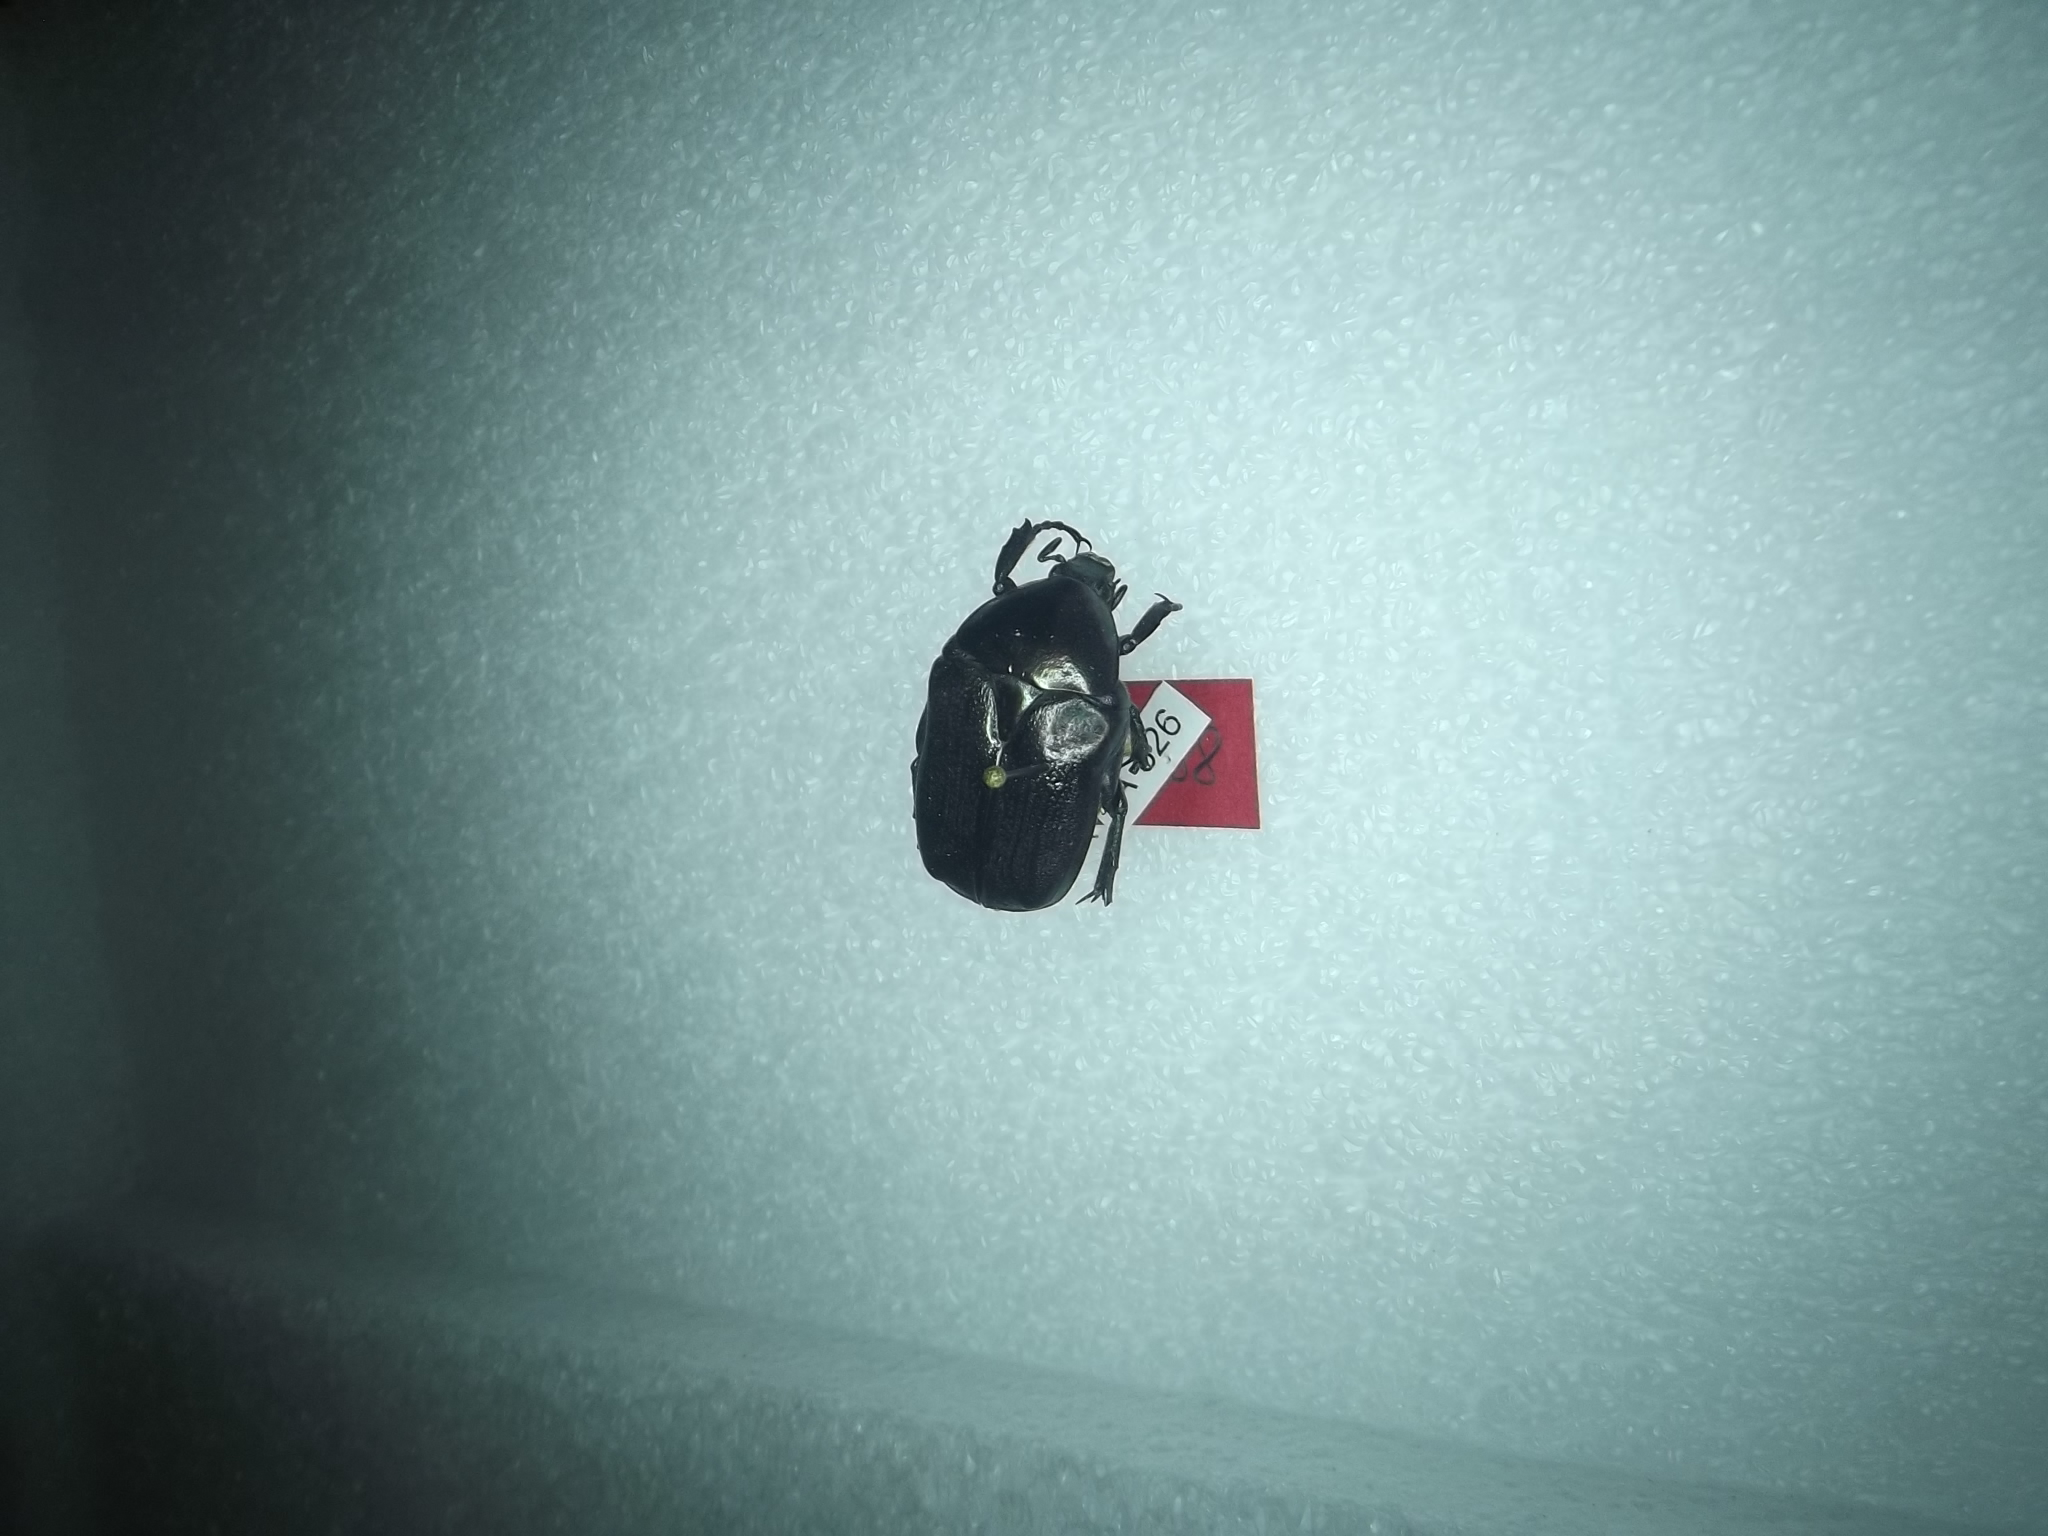Protaetia_besucheti: (892, 513, 1193, 925)
